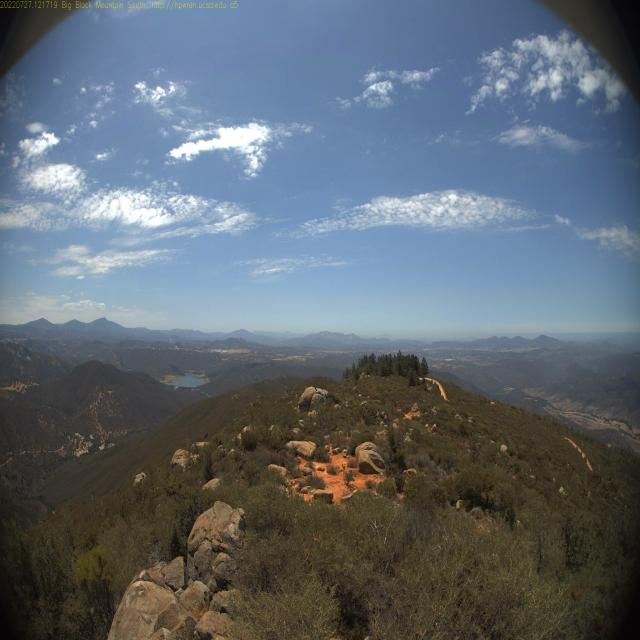smoke: (156, 314, 180, 353)
